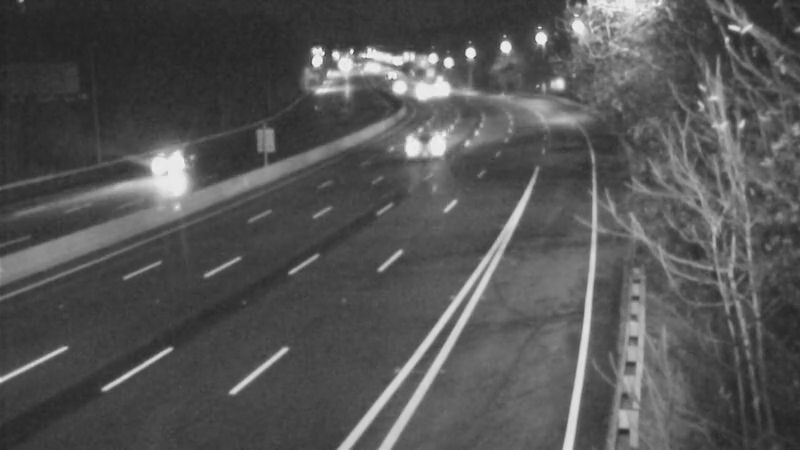vehicle: (119, 131, 199, 211), (370, 60, 420, 110), (395, 63, 445, 113), (417, 63, 467, 113), (394, 69, 444, 119), (399, 116, 449, 166)
